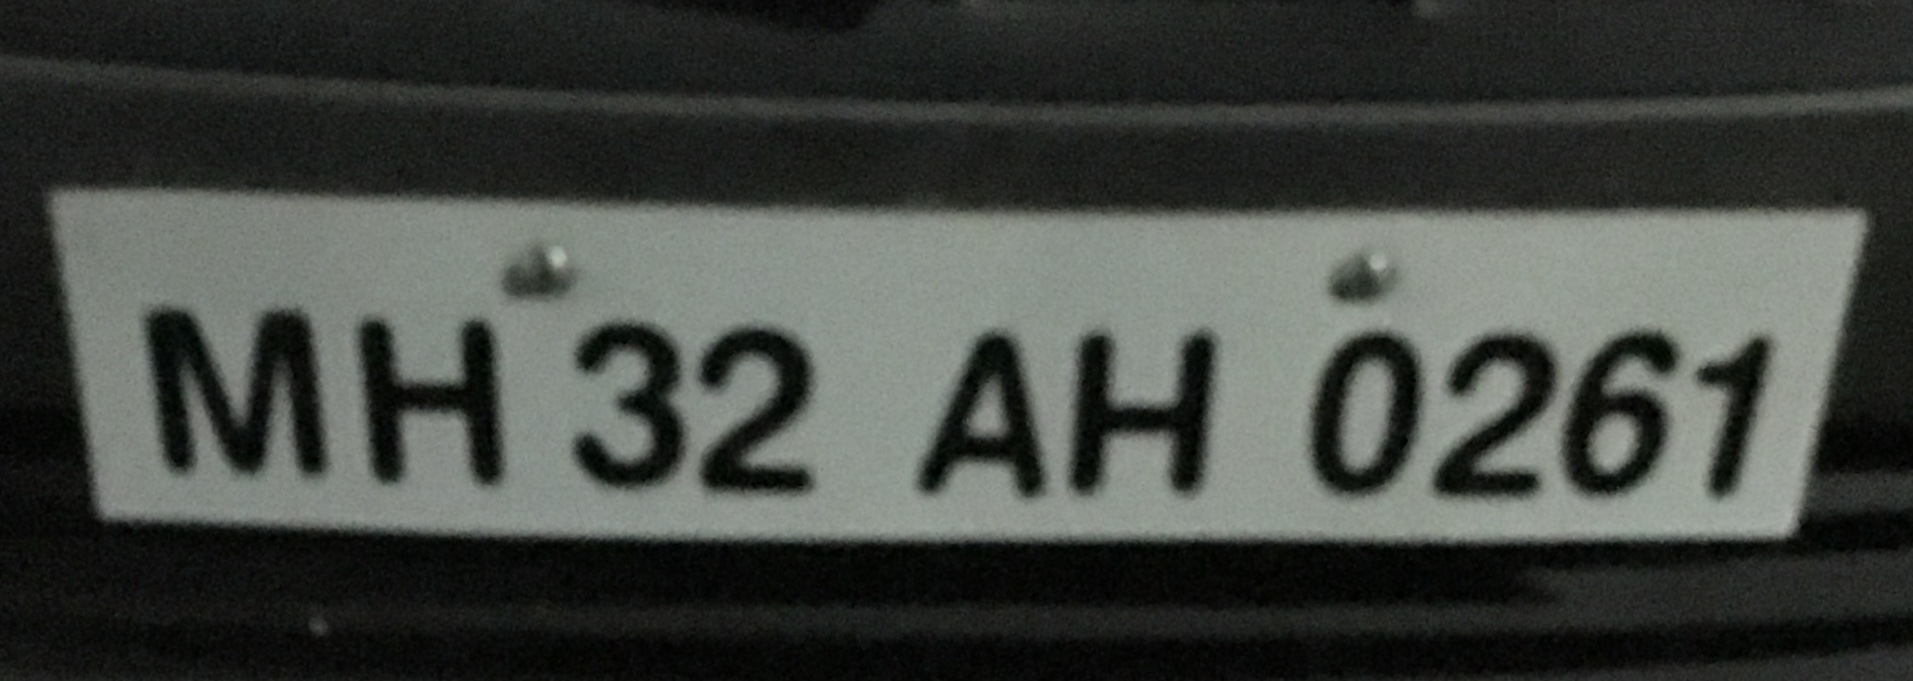numberplate: (37, 183, 1880, 548)
